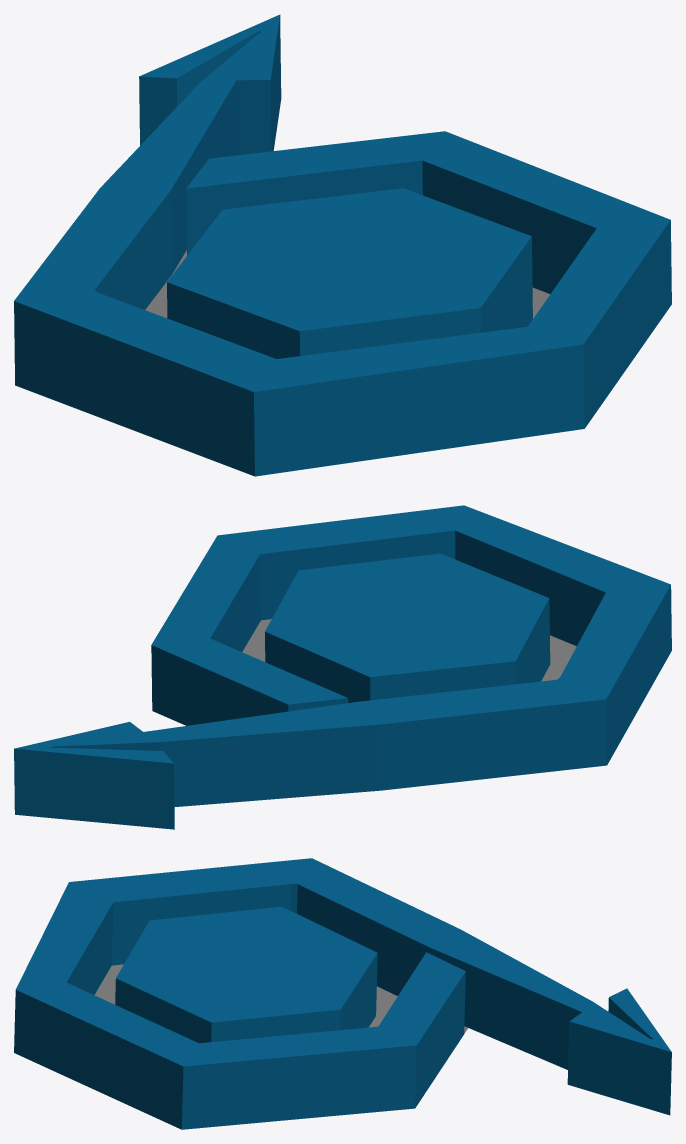
File: Vslet5.gltf
3 renders of one model, top to bottom at view 1: azimuth 30°, elevation 25°; view 2: azimuth 150°, elevation 25°; view 3: azimuth 270°, elevation 25°, orthographic. The views are drawn at different scales.
Visible parts, largest first — view 1: root; view 2: root; view 3: root.
Part boxes in pixels (<box>): root: <box>14,14,671,476</box>; root: <box>14,505,671,829</box>; root: <box>14,858,671,1129</box>.
Bounding box in the file's own units: 0.4029 × 0.0692 × 0.5305.
